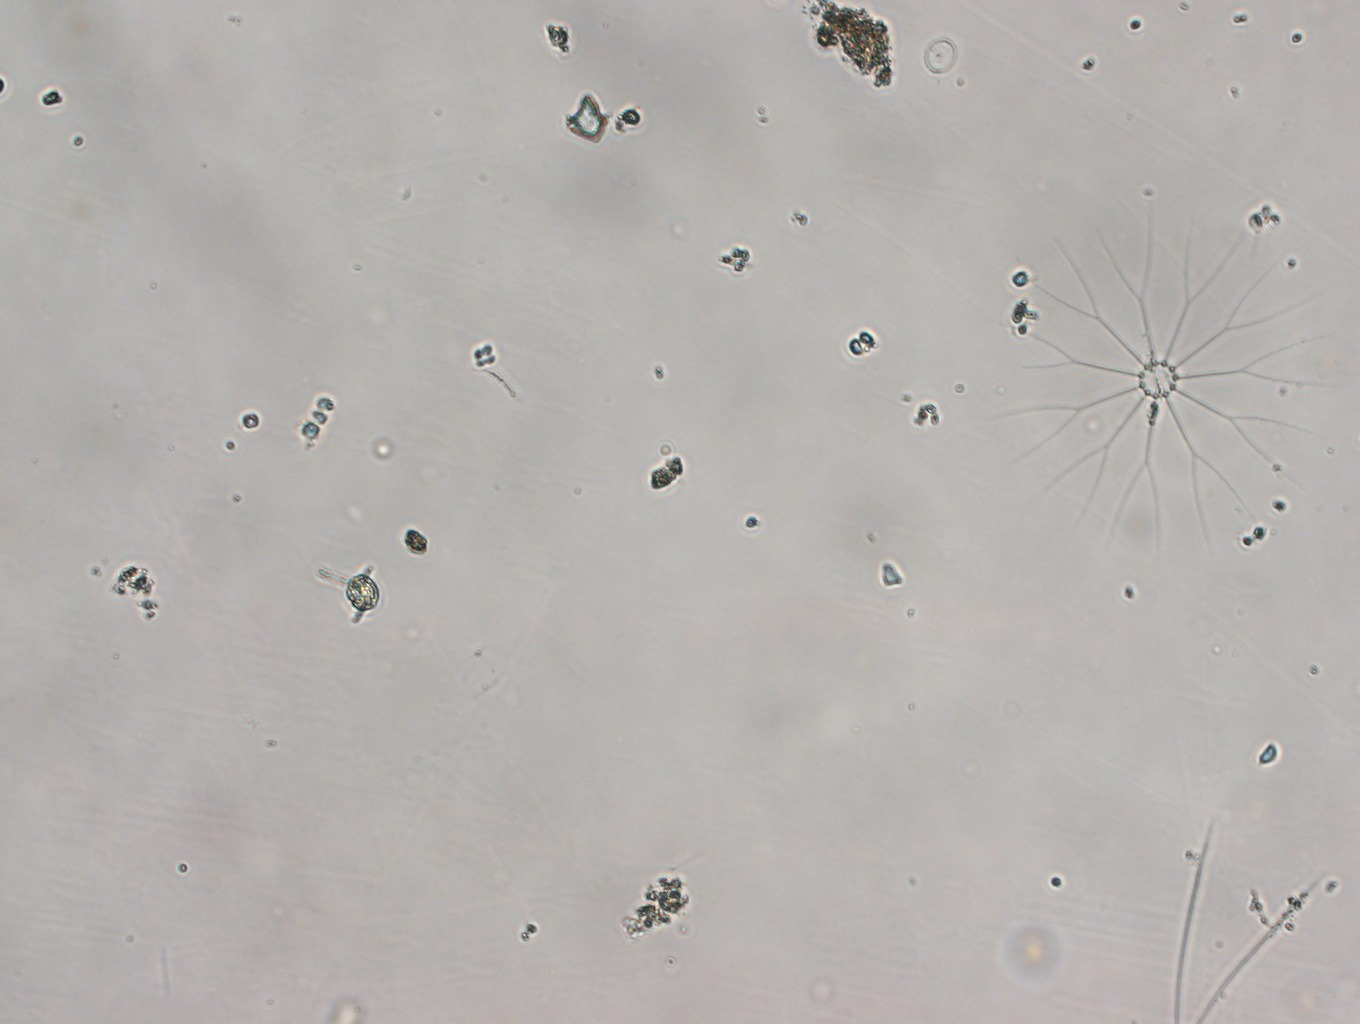bacteriastrum: (1000, 211, 1335, 546)
